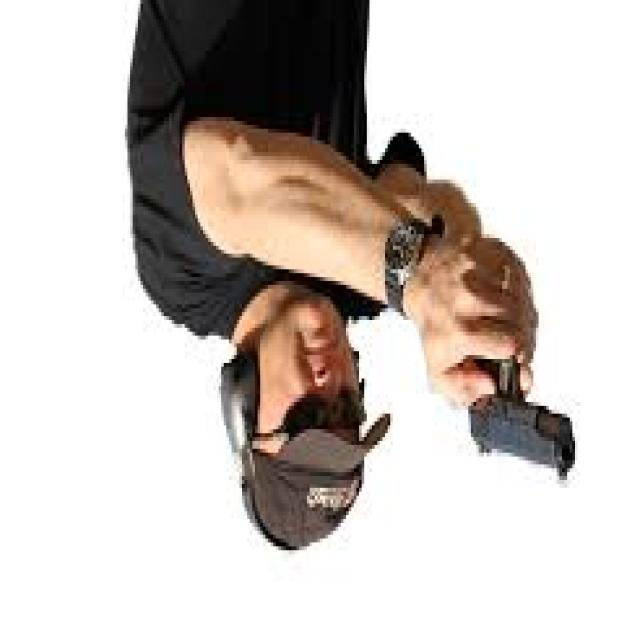gun: (410, 266, 579, 512)
